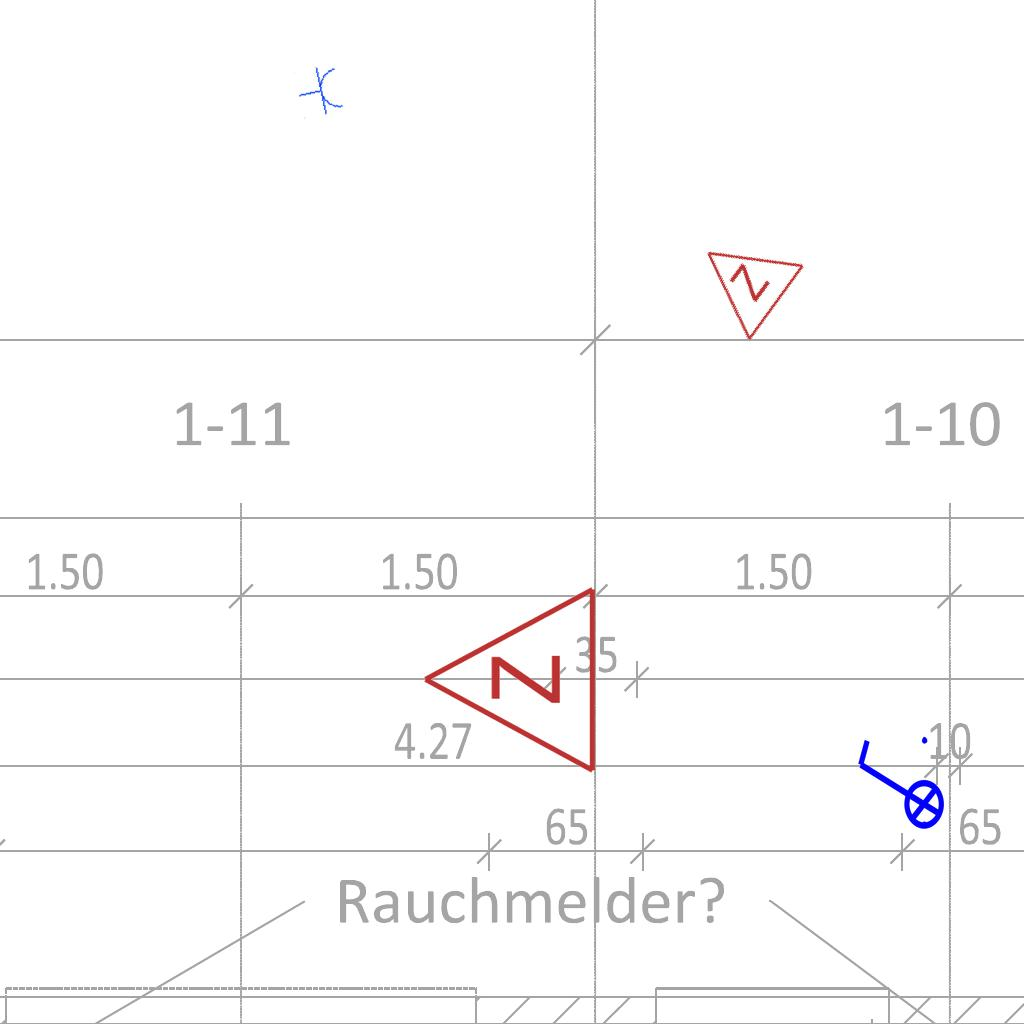Ausschalter_beleuchtet: (850, 731, 946, 843)
Schukosteckdose_einfach: (293, 62, 347, 121)
Zimmersignalleuchte: (410, 584, 610, 780), (672, 209, 812, 349)
